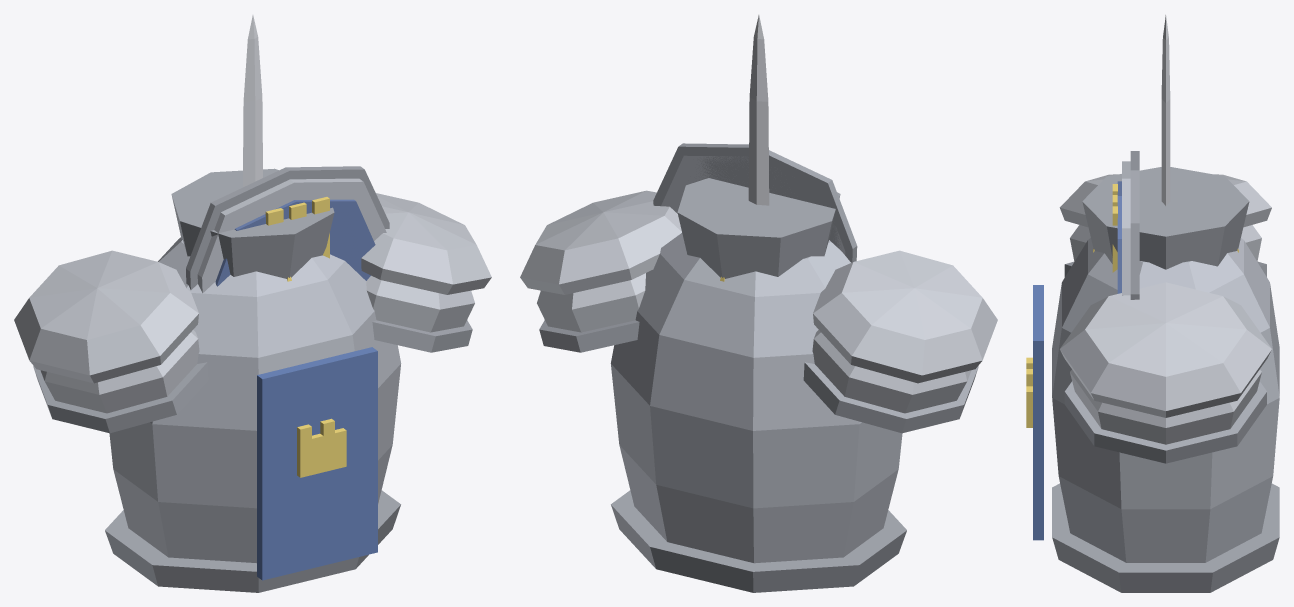
The model's file is castellan.glb.
3 renders of one model, left to right at view 1: azimuth 30°, elevation 25°; view 2: azimuth 150°, elevation 25°; view 3: azimuth 270°, elevation 25°, orthographic.
Parts seen in each view (by area): view 1: Torso, PauldronL, PauldronR, Shield, Weapon; view 2: Torso, PauldronL, PauldronR, Shield, Weapon; view 3: Torso, PauldronR, Shield, PauldronL, Weapon.
Part boxes in pixels (left/top/right/bottom): Torso: left=105, top=168, right=401, bottom=592; PauldronL: left=14, top=250, right=208, bottom=433; PauldronR: left=361, top=193, right=491, bottom=352; Shield: left=186, top=166, right=389, bottom=293; Weapon: left=243, top=15, right=262, bottom=187; Torso: left=610, top=178, right=906, bottom=592; PauldronL: left=803, top=250, right=997, bottom=433; PauldronR: left=520, top=190, right=681, bottom=352; Shield: left=653, top=143, right=857, bottom=262; Weapon: left=748, top=15, right=769, bottom=205; Torso: left=1026, top=167, right=1279, bottom=592; PauldronR: left=1060, top=282, right=1271, bottom=463; Shield: left=1112, top=151, right=1139, bottom=299; PauldronL: left=1059, top=174, right=1271, bottom=277; Weapon: left=1161, top=15, right=1170, bottom=205.
Bounding box in the file's own units: 1.16 × 1.31 × 0.5762.
